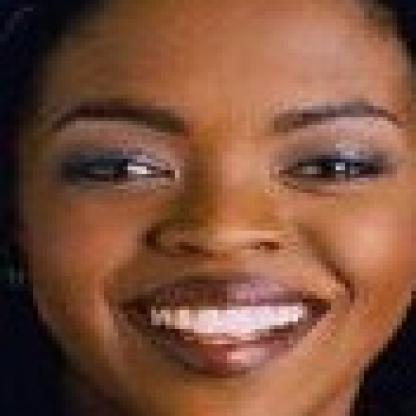female: (5, 4, 411, 412)
